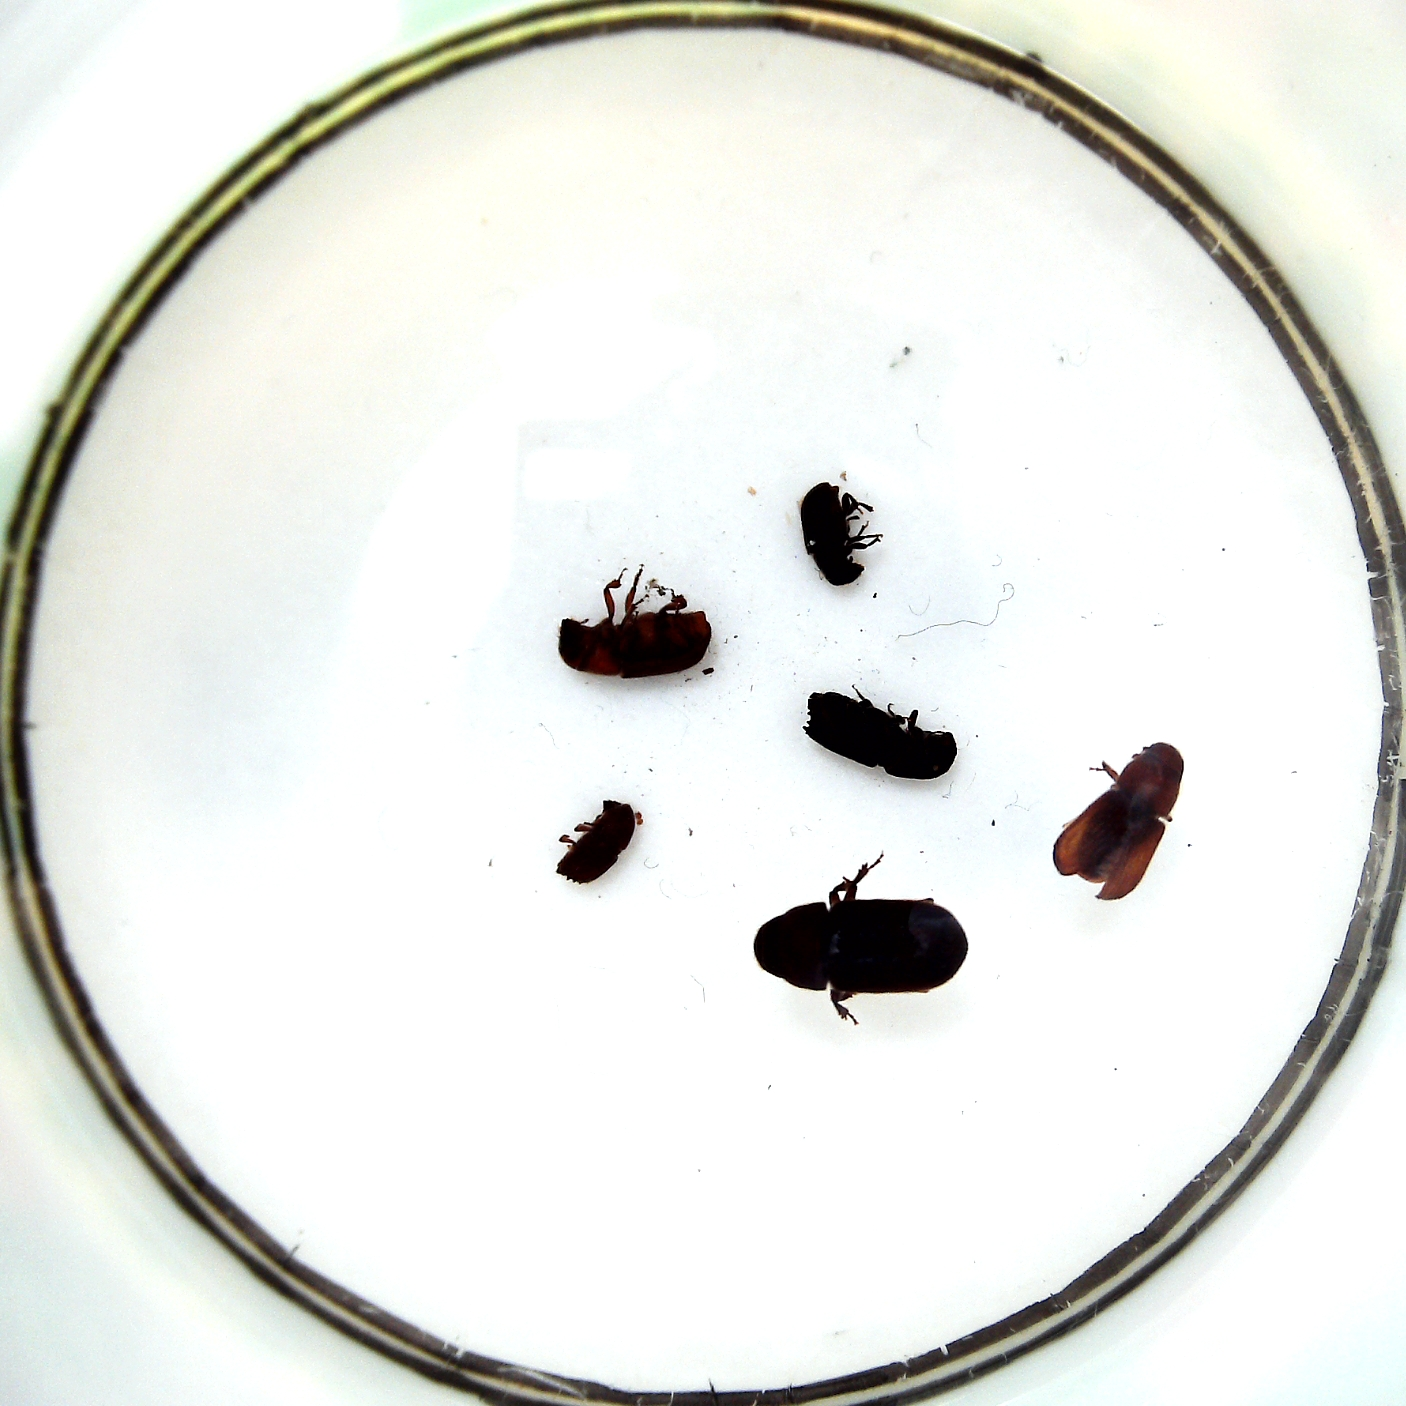Boerner: (802, 691, 957, 780)
Leconte: (1052, 739, 1185, 900), (753, 899, 970, 991), (559, 610, 713, 680)
armandi: (802, 482, 867, 586)
linnaeus: (554, 800, 637, 882)
